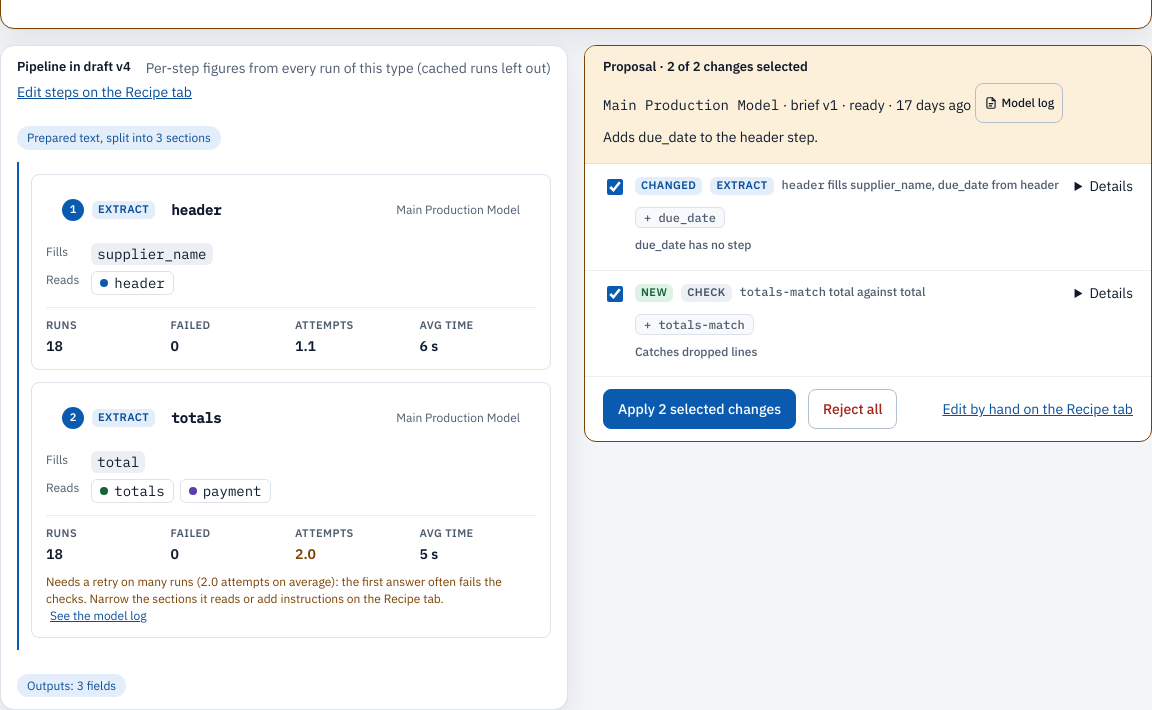
Test: Steps tab › opens a retrying step's model log from its warning
This screenshot has width=1152, height=710.
(page scrolled)
Click the button "See the model log".
click(98, 616)  # box [46, 607, 151, 625]
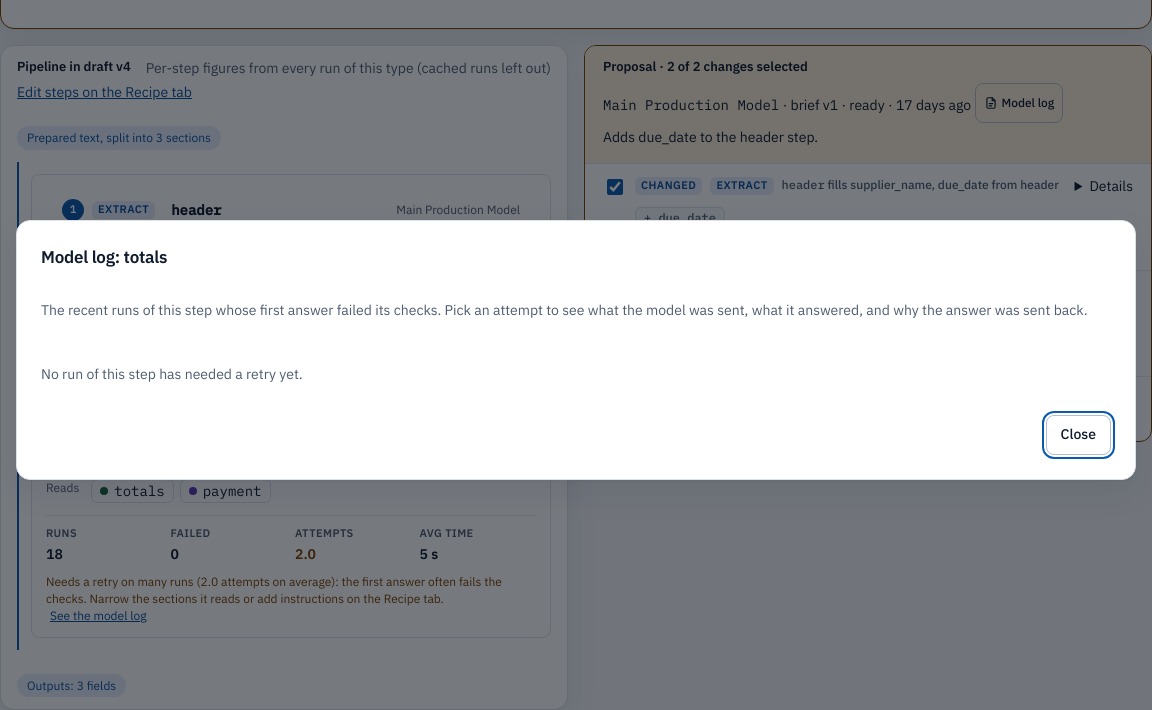
Check: the dialog "Model log: totals" is shown, box [16, 220, 1136, 480]
